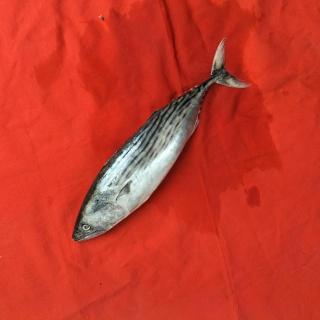Ikan: (67, 40, 253, 251)
